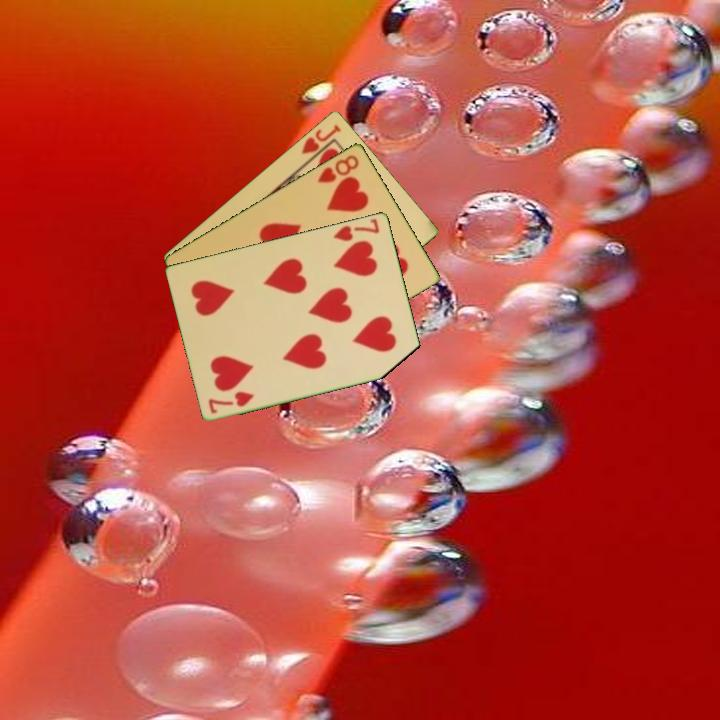7h: (330, 215, 383, 244), (205, 387, 257, 416)
8h: (314, 151, 362, 185)
Jh: (298, 120, 344, 166)
